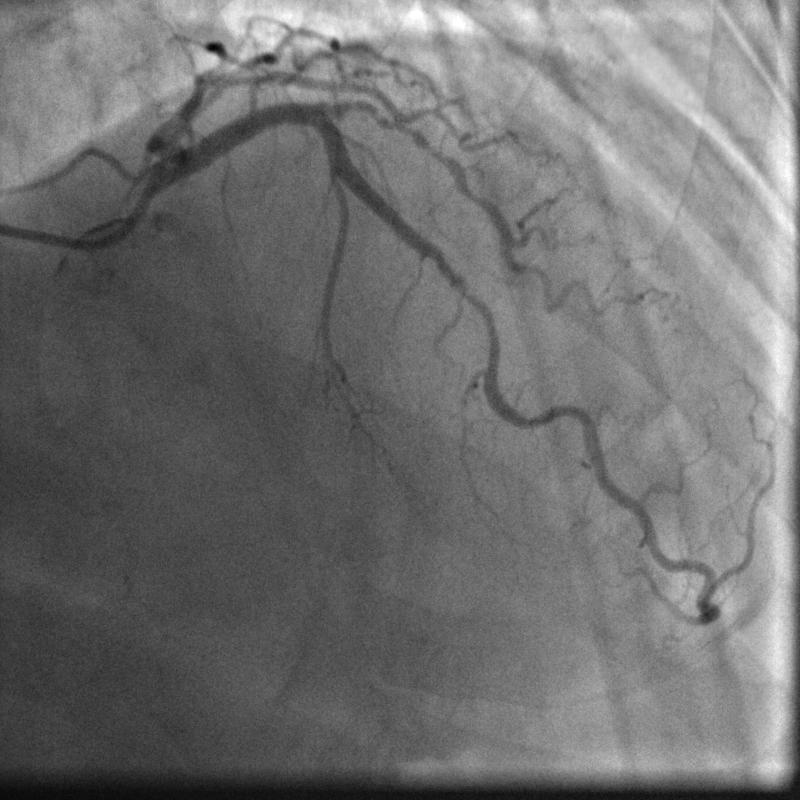Stenosis: (452, 268, 508, 356)
